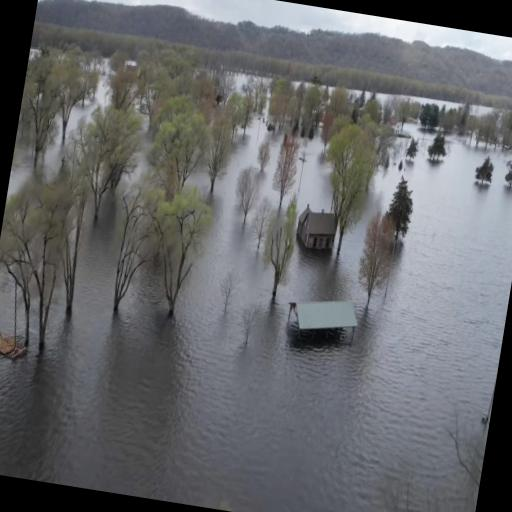flood: (0, 118, 512, 512), (298, 139, 331, 211), (268, 146, 277, 181)
house: (293, 199, 340, 261)
